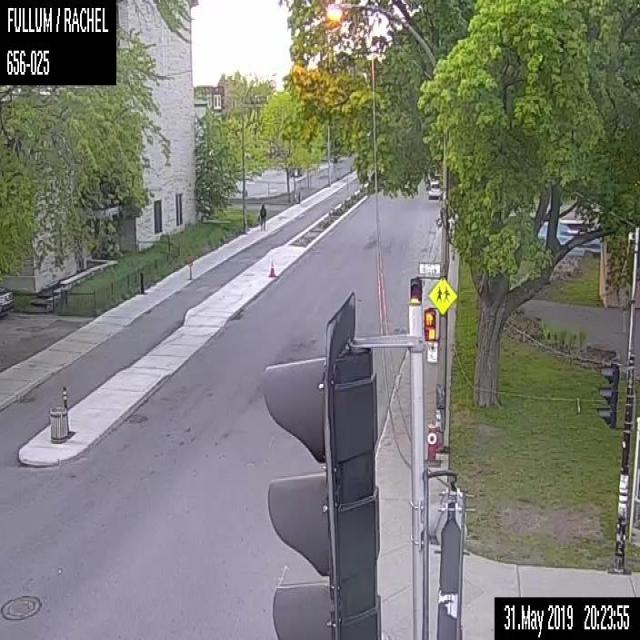construction: (268, 257, 276, 276)
pedestrian: (259, 201, 266, 231)
vehicle: (428, 180, 440, 198)
